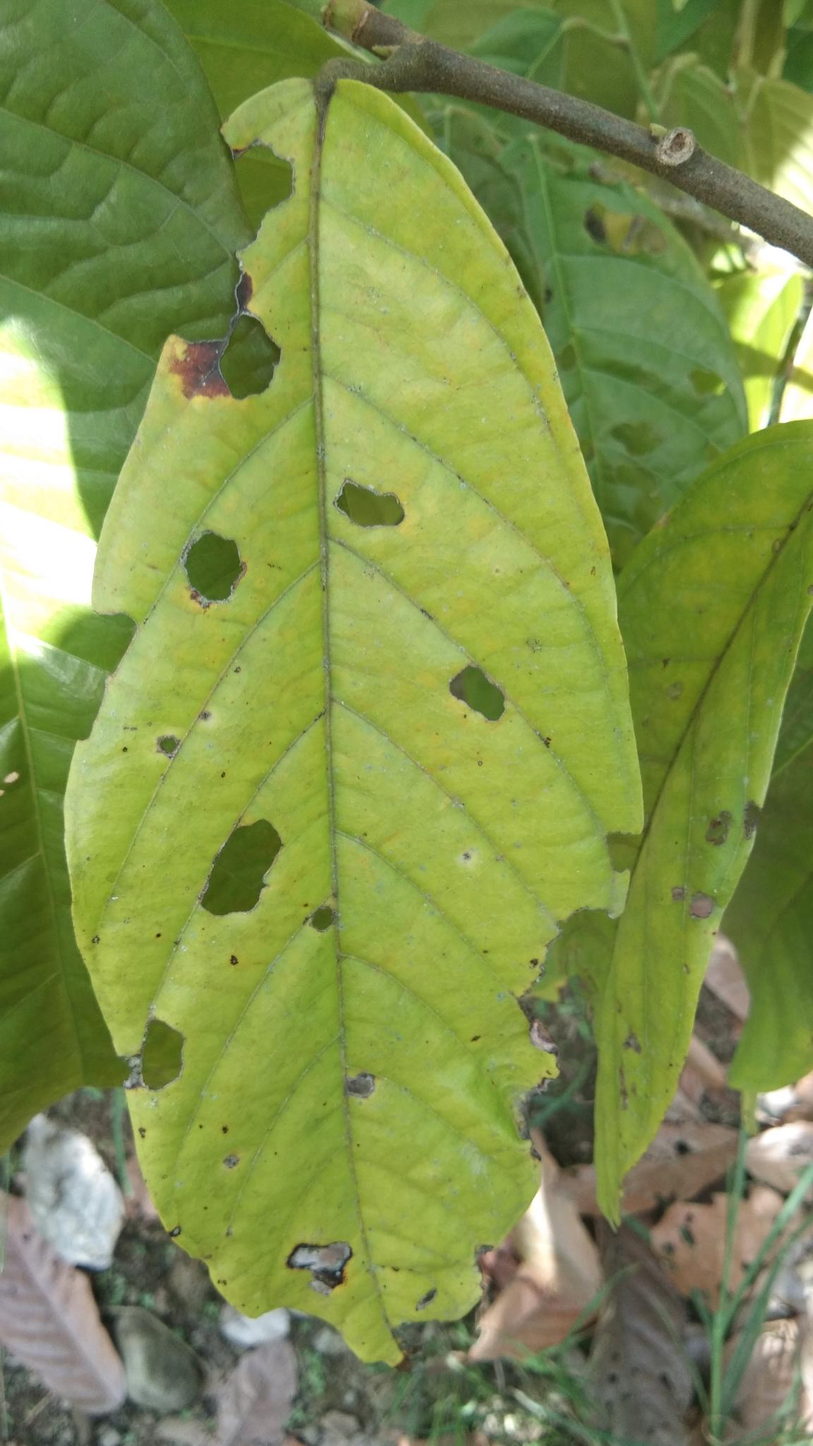Fosforo: (54, 71, 648, 1383)
